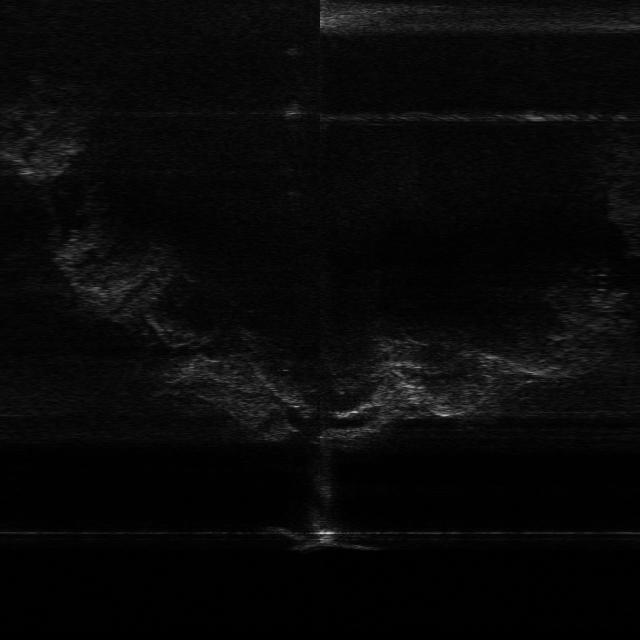plane: (266, 513, 384, 552)
